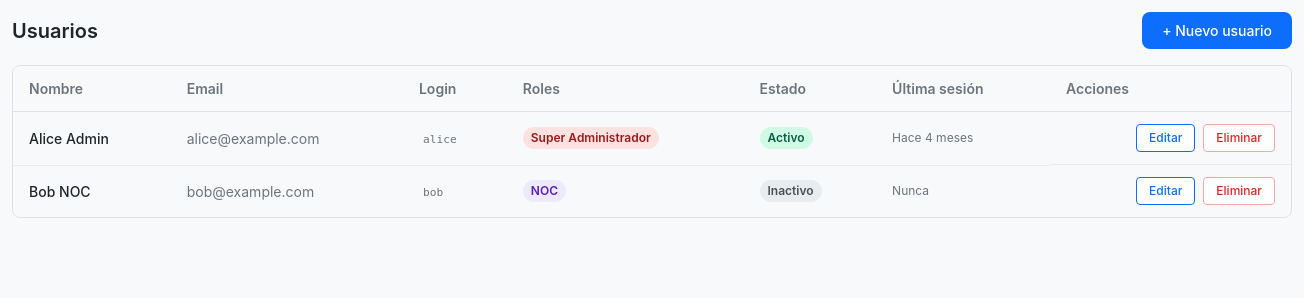
RbacUsersBody › shows error toast when delete returns CANNOT_DELETE_SELF
Click the button "Eliminar" in the row of "Alice Admin". click: (1239, 138)
box: top-left (1203, 124), bottom-right (1275, 152)
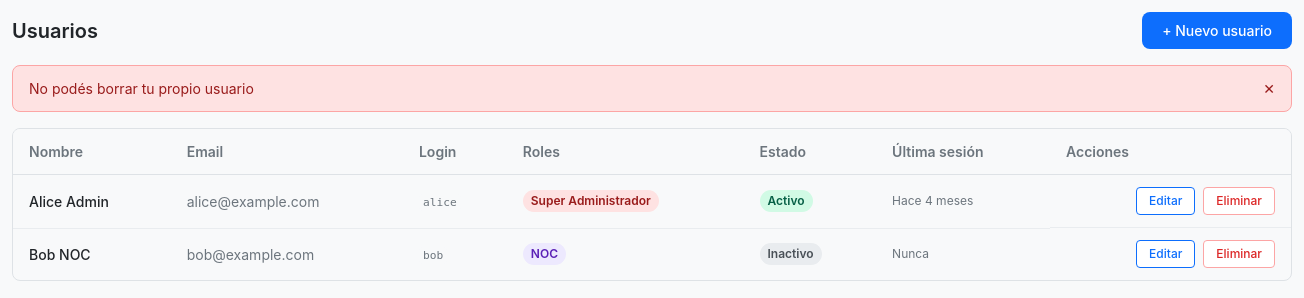
Expected: the text "No podés borrar tu propio usuario ✕" is shown, top-left (12, 65), bottom-right (1292, 112)
